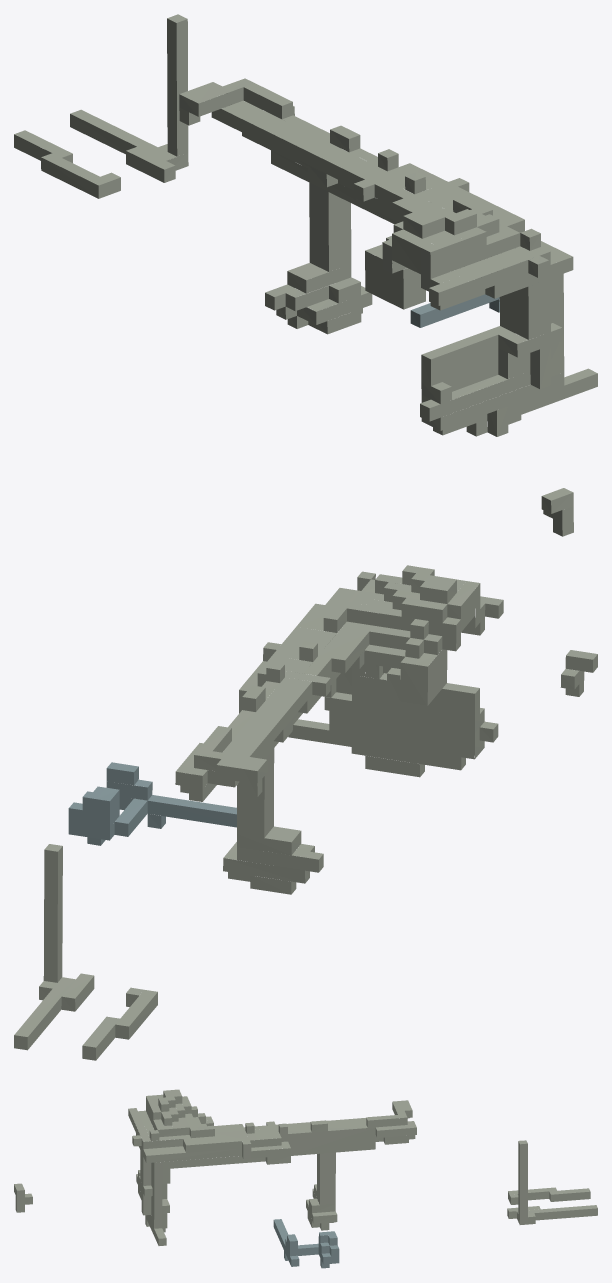
3 renders of one model, top to bottom at view 1: azimuth 30°, elevation 25°; view 2: azimuth 150°, elevation 25°; view 3: azimuth 270°, elevation 25°, orthographic. The views are drawn at different scales.
Visible parts, largest first — view 1: measured-industrial; view 2: measured-industrial; view 3: measured-industrial.
Boxes of the visible parts, left/top/right/bottom form: measured-industrial: left=14, top=14, right=597, bottom=536; measured-industrial: left=14, top=565, right=597, bottom=1060; measured-industrial: left=14, top=1089, right=597, bottom=1268.
Size of the model in its own units: 32.02 by 24.04 by 108.
